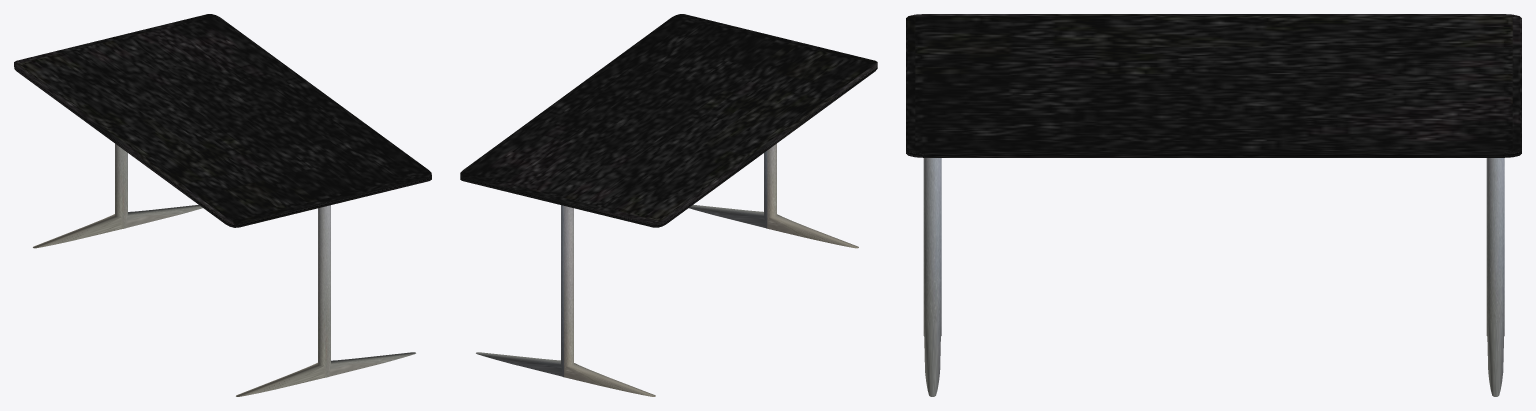
File: Office table.fbx
3 renders of one model, left to right at view 1: azimuth 30°, elevation 25°; view 2: azimuth 150°, elevation 25°; view 3: azimuth 270°, elevation 25°, orthographic. The views are drawn at different scales.
Visible parts, largest first — view 1: Table, Leck2, Leck1; view 2: Table, Leck1, Leck2; view 3: Table, Leck2, Leck1.
Boxes of the visible parts, <box> form: Table: <box>14,14,431,227</box>; Leck2: <box>236,205,415,396</box>; Leck1: <box>33,143,202,248</box>; Table: <box>460,14,877,227</box>; Leck1: <box>476,205,655,396</box>; Leck2: <box>689,143,858,248</box>; Table: <box>906,14,1521,157</box>; Leck2: <box>923,158,941,396</box>; Leck1: <box>1486,158,1504,396</box>.
Size of the model in its own units: 90 by 76.93 by 170.
3 materials, 3 textured.
